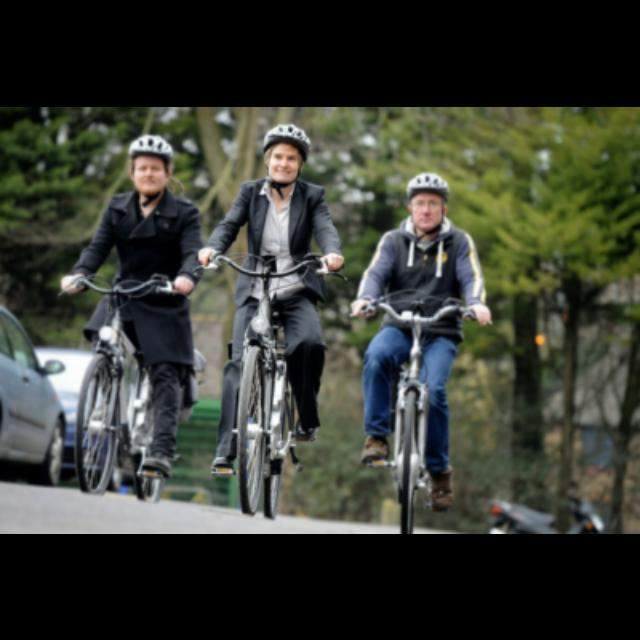With Helmet: (122, 133, 178, 191), (262, 120, 312, 180), (401, 168, 451, 228)
